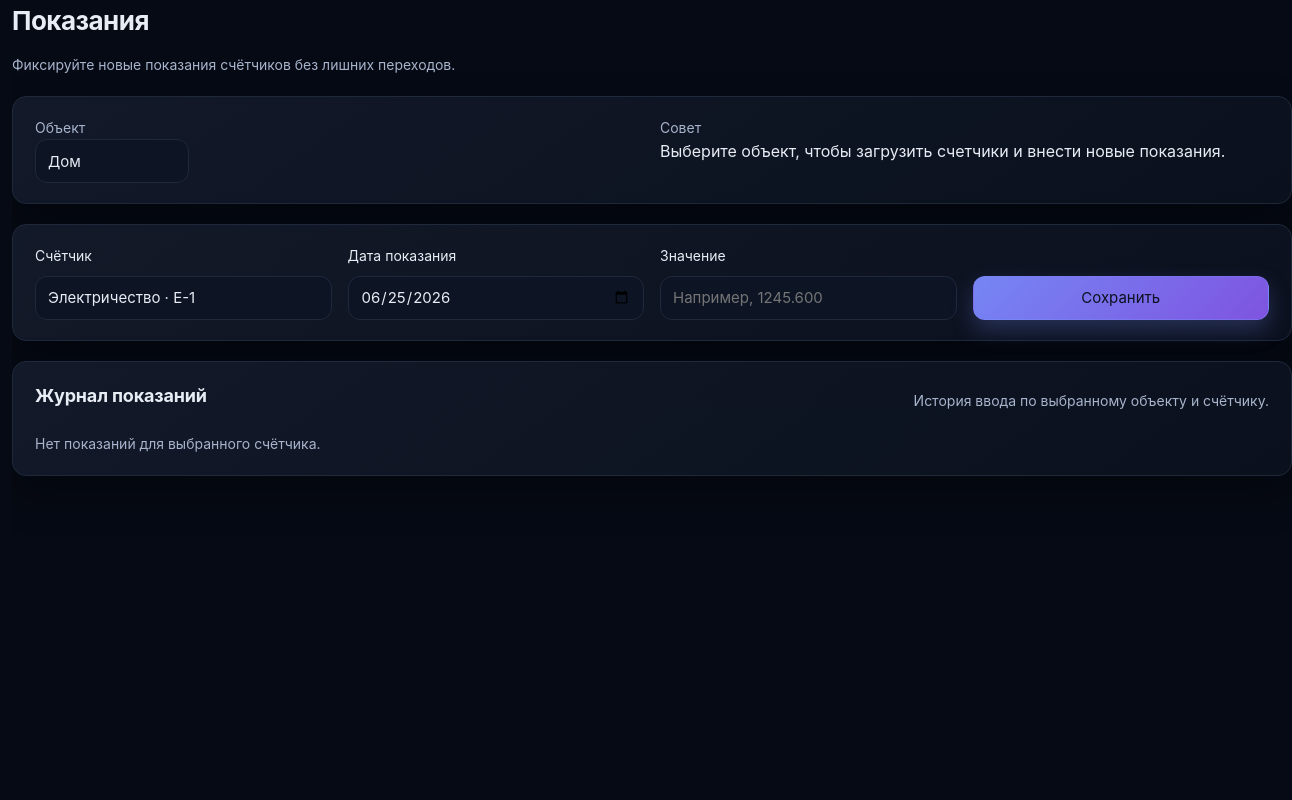
Test: ReadingsPage › posts valid readings and shows backend fallback errors
Type "12.5" into the number field labelled "Значение" at [808, 298], box [660,276,956,320]
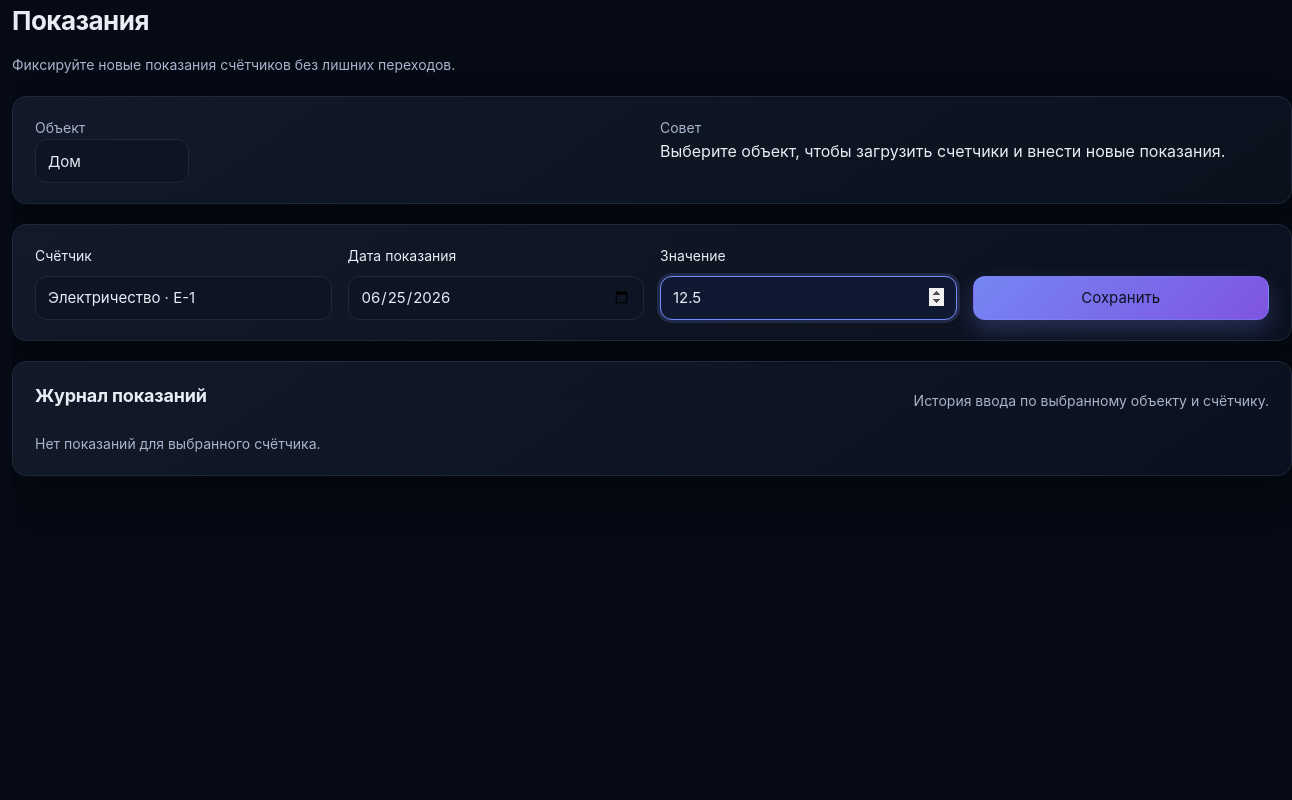
Click the button "Сохранить" at [1121, 298], box [972,276,1269,320]
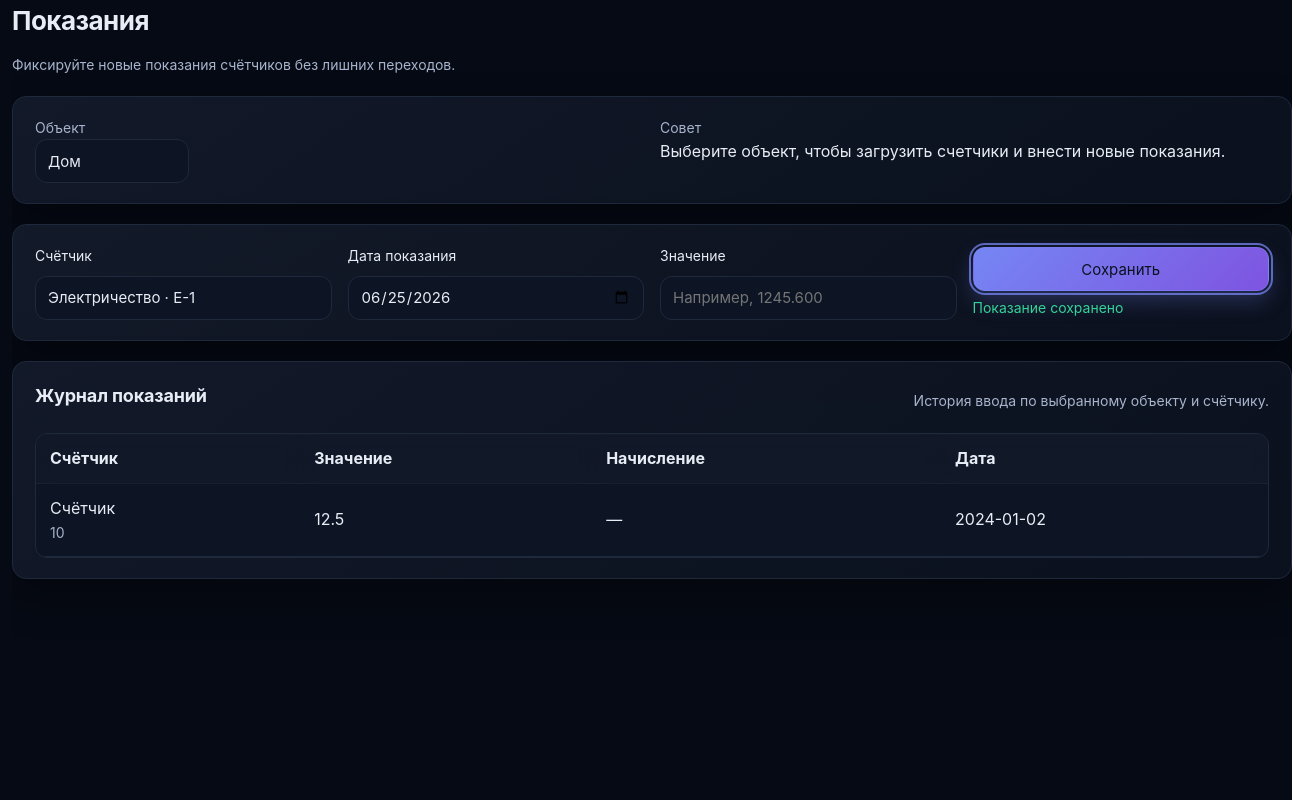
Now the text "Показание сохранено" is shown, box [972,299,1124,316]
Type "13.5" into the number field labelled "Значение" at [808, 298], box [660,276,956,320]
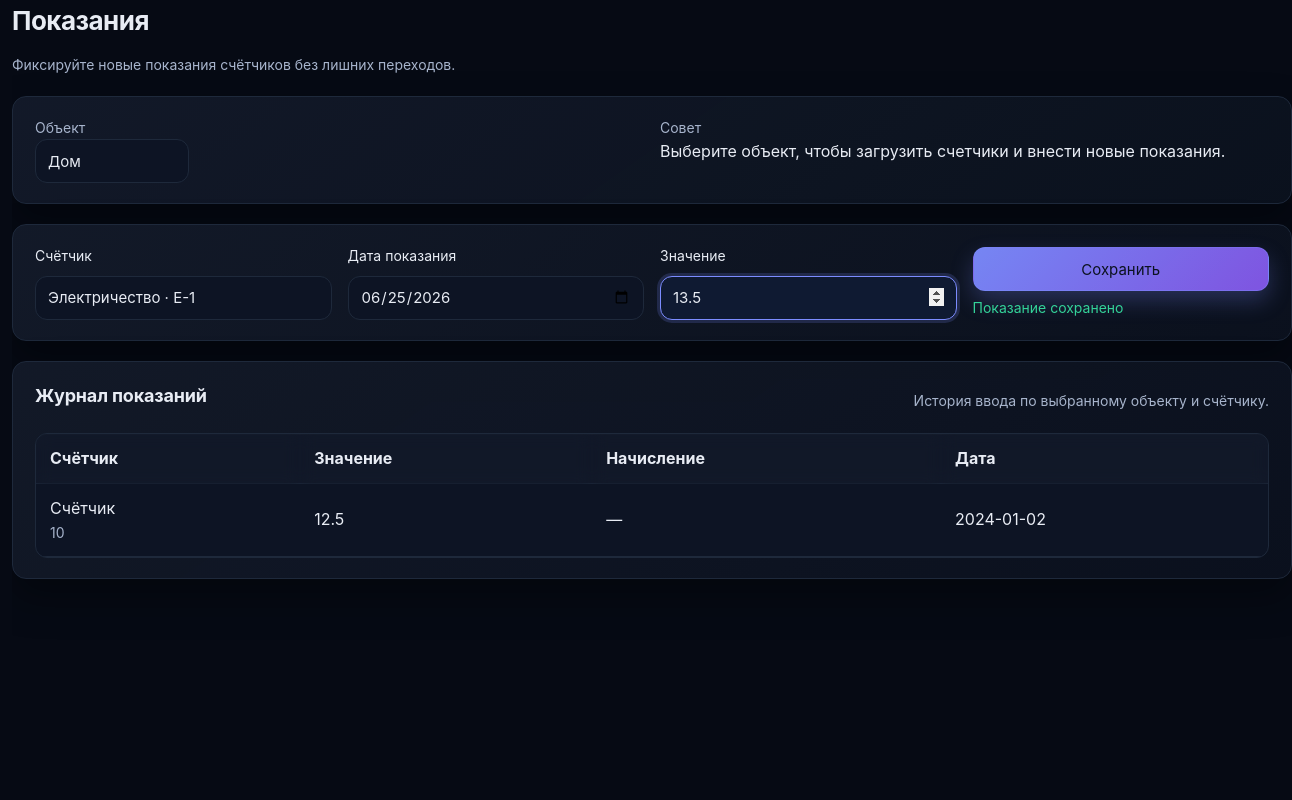
Click the button "Сохранить" at [1121, 269], box [972,247,1269,291]
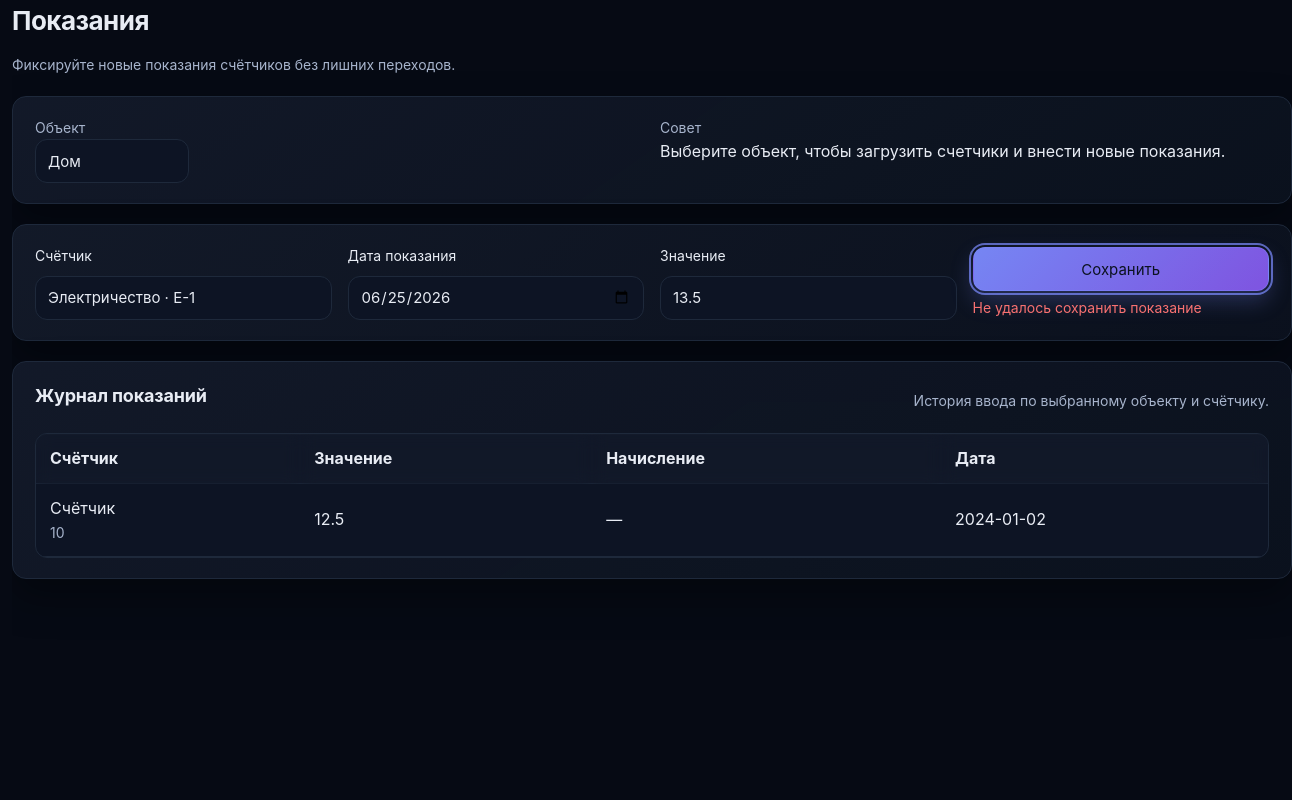
Now the text "Не удалось сохранить показание" is shown, box [972,299,1202,316]
